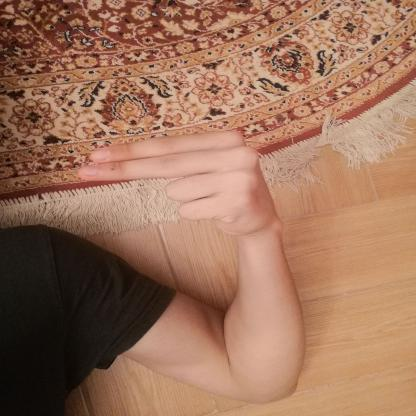AYN: (59, 116, 297, 247)
